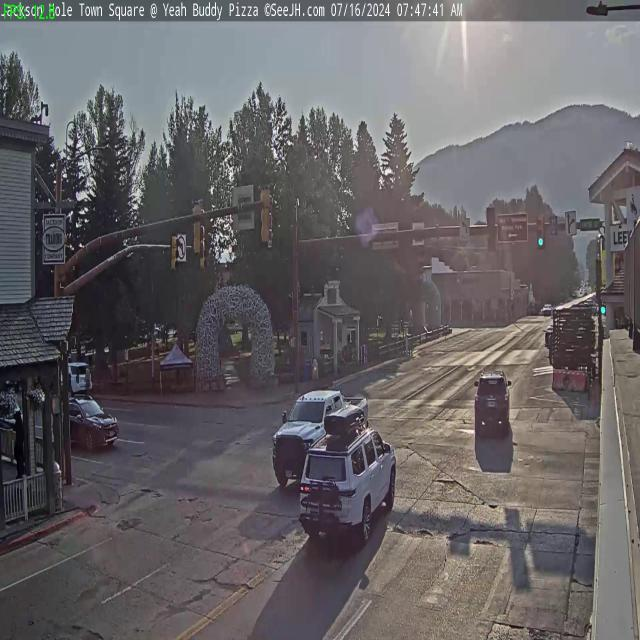pickup: (271, 386, 367, 486)
suv: (298, 426, 399, 544), (56, 392, 120, 455), (474, 371, 511, 434), (61, 360, 90, 398)
traffic light: (259, 183, 273, 244), (191, 198, 204, 256), (486, 207, 496, 252), (536, 214, 545, 248), (171, 235, 179, 272)
